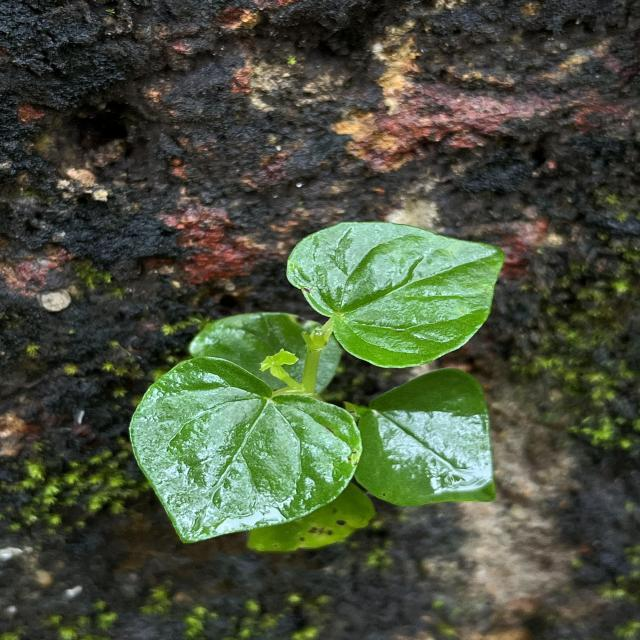Peperomia pellucida: (127, 356, 365, 546), (285, 218, 509, 370)
